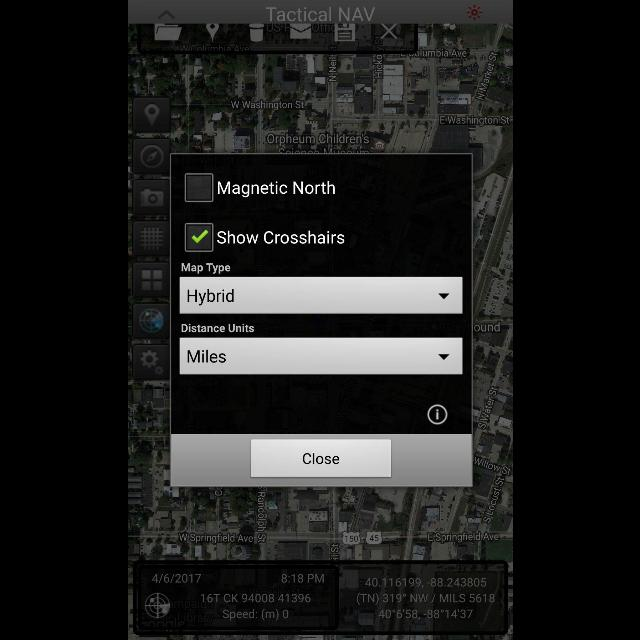checkbox: (184, 222, 212, 252), (184, 174, 212, 202)
icon: (427, 404, 448, 424)
panel: (170, 153, 472, 487)
text: (218, 180, 334, 198), (216, 230, 344, 243), (180, 323, 253, 332), (180, 262, 230, 274)
textbutton: (178, 276, 462, 314), (178, 338, 462, 374), (250, 439, 390, 478)
uppertaskbar: (127, 1, 511, 23)
